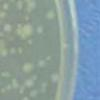white: (21, 62, 35, 75), (24, 78, 35, 90), (17, 71, 29, 82), (0, 17, 7, 33), (24, 25, 32, 39), (51, 73, 62, 83), (3, 22, 12, 34), (46, 10, 55, 20), (37, 60, 47, 69), (0, 9, 8, 20), (0, 47, 8, 58), (15, 28, 26, 36), (11, 77, 20, 86), (0, 37, 6, 50), (36, 25, 43, 36), (27, 2, 36, 10), (12, 81, 20, 90), (5, 83, 14, 91), (19, 34, 27, 42), (28, 90, 36, 98), (0, 0, 7, 9), (17, 47, 24, 56), (39, 88, 48, 95), (39, 82, 48, 89), (25, 7, 33, 14), (16, 4, 23, 12), (16, 23, 23, 31), (32, 73, 39, 81), (18, 88, 25, 96), (0, 87, 7, 95), (4, 71, 12, 78), (9, 0, 18, 6), (10, 47, 16, 56), (45, 55, 52, 62), (24, 0, 32, 6), (2, 3, 8, 11), (27, 39, 33, 47), (0, 70, 6, 78), (16, 0, 23, 6), (25, 15, 31, 22), (0, 30, 5, 38), (18, 11, 22, 17), (23, 96, 28, 100)
